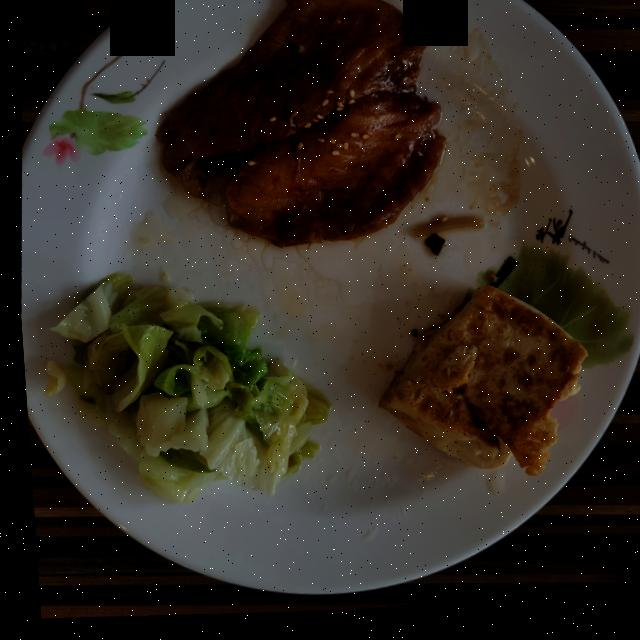Kabayaki sea bream fillet: (155, 0, 442, 251)
cabbage: (39, 273, 323, 504)
coin: (21, 0, 82, 54)
